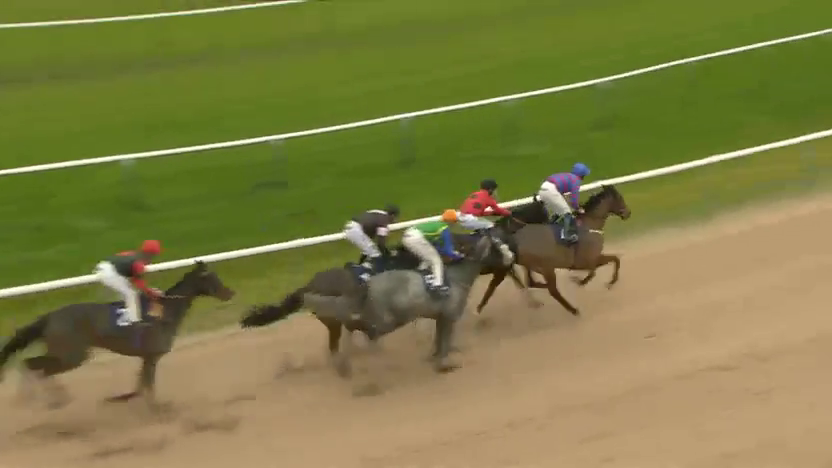jockey: (97, 242, 165, 327), (402, 211, 462, 300), (343, 206, 399, 280), (539, 165, 587, 240), (458, 180, 500, 253)
